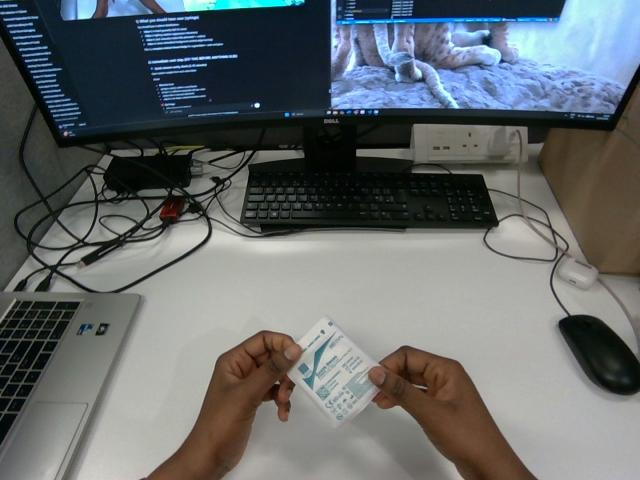gauze: (288, 317, 378, 426)
